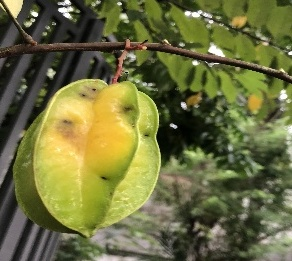Khe: (9, 79, 163, 238)
